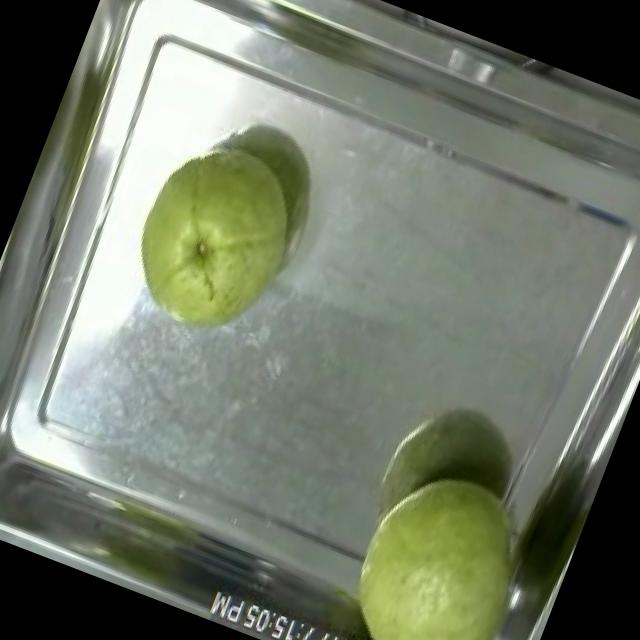Fruit: (104, 118, 324, 360), (315, 441, 569, 640)
